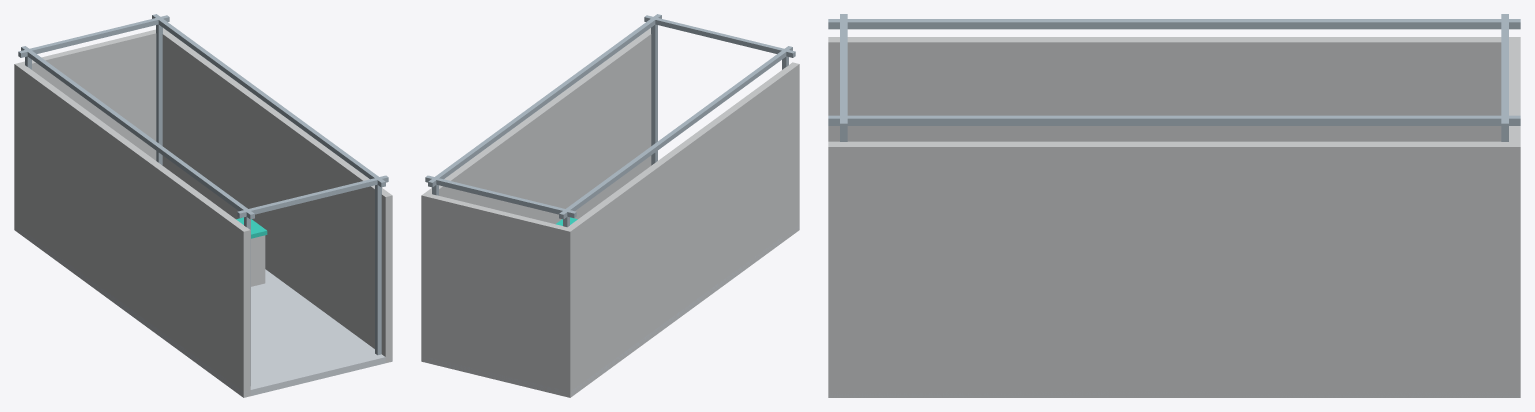
The picture shows the model from 3 angles, left to right: view 1: azimuth 30°, elevation 25°; view 2: azimuth 150°, elevation 25°; view 3: azimuth 270°, elevation 25°; orthographic projection. The views are drawn at different scales.
Parts seen in each view (by area): view 1: Exhibition Booth Concept; view 2: Exhibition Booth Concept; view 3: Exhibition Booth Concept.
Boxes of the visible parts, <box> form: Exhibition Booth Concept: <box>14,14,392,397</box>; Exhibition Booth Concept: <box>421,14,799,397</box>; Exhibition Booth Concept: <box>828,14,1520,397</box>.
Size of the model in its own units: 3 by 3.49 by 8.
